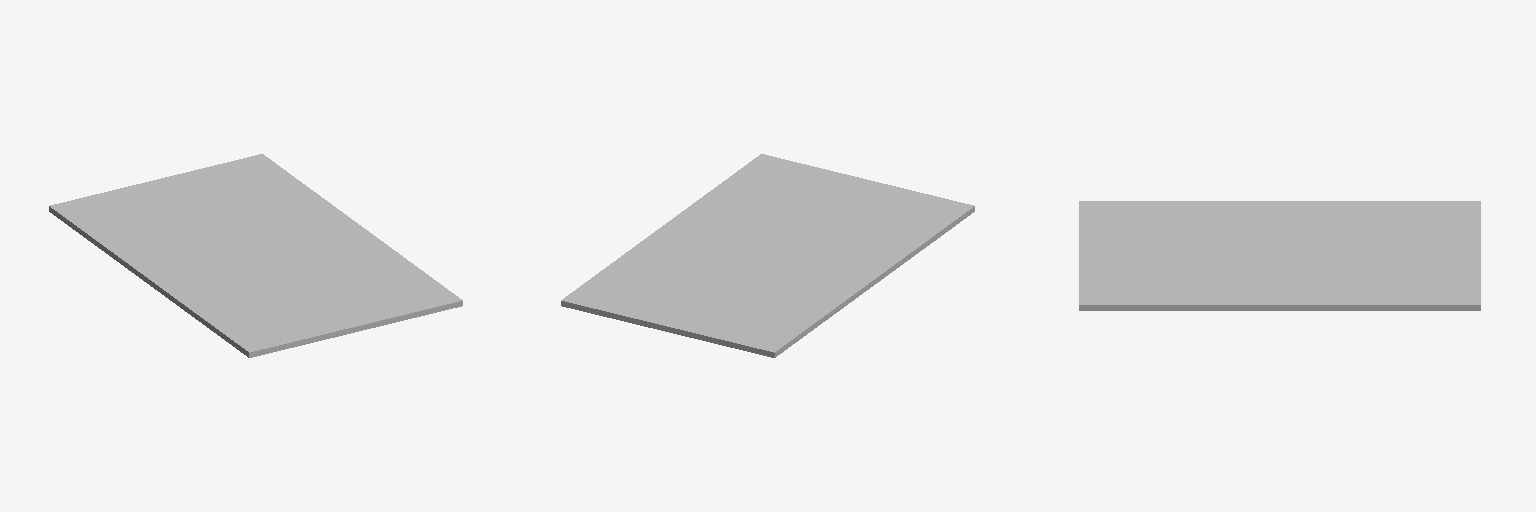
Rendered from wall.obj.
3 renders of one model, left to right at view 1: azimuth 30°, elevation 25°; view 2: azimuth 150°, elevation 25°; view 3: azimuth 270°, elevation 25°, orthographic.
Visible parts, largest first — view 1: object 1; view 2: object 1; view 3: object 1.
Part boxes in pixels (x1,y1,x2,y2): object 1: (49, 154, 462, 357); object 1: (561, 154, 974, 357); object 1: (1079, 201, 1480, 310).
Bounding box in the file's own units: 4 × 0.1 × 6.5.